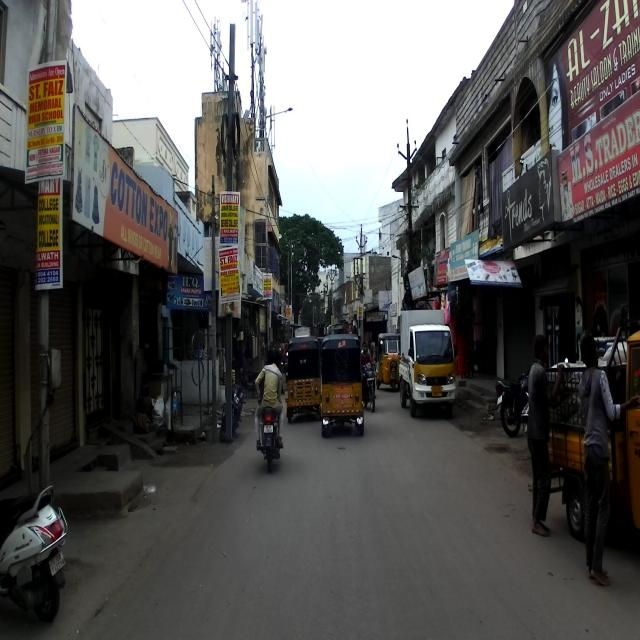autorickshaw: (528, 330, 640, 541), (318, 332, 364, 438), (285, 334, 319, 423), (375, 332, 400, 391)
motorcycle: (495, 366, 541, 438), (255, 384, 285, 474), (217, 379, 246, 443), (360, 355, 377, 412)
scooter: (0, 482, 68, 629)
truck: (398, 308, 456, 420)
